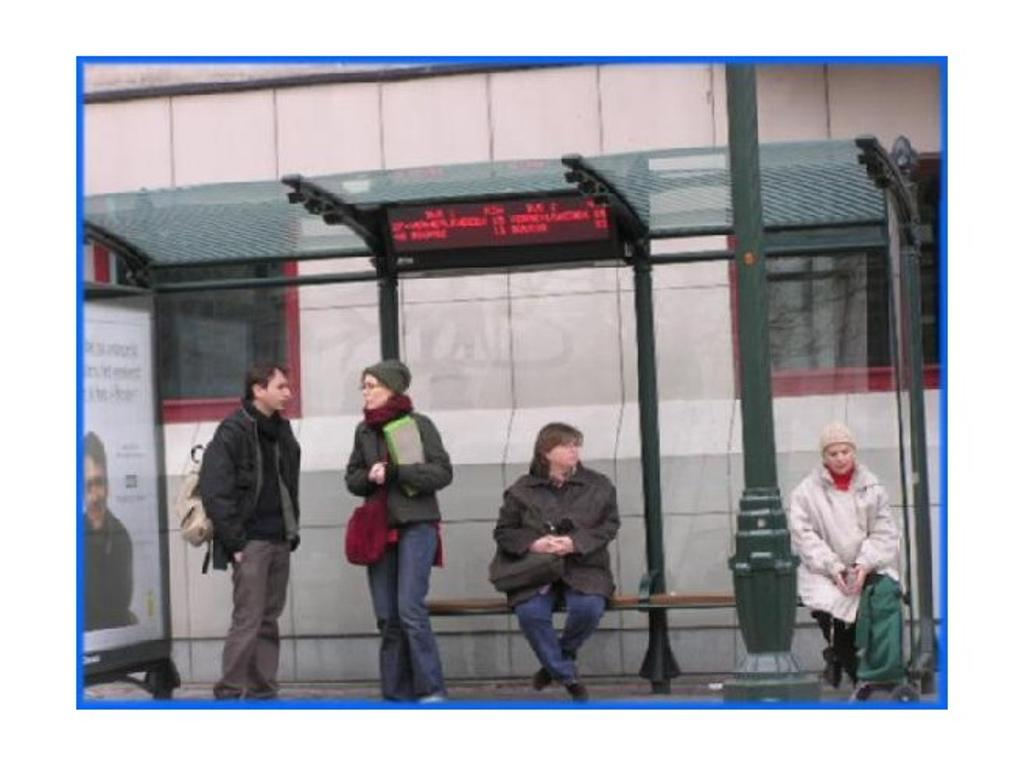face: (84, 456, 105, 527), (258, 368, 289, 408), (361, 373, 388, 408), (826, 440, 852, 472), (554, 433, 577, 465)
